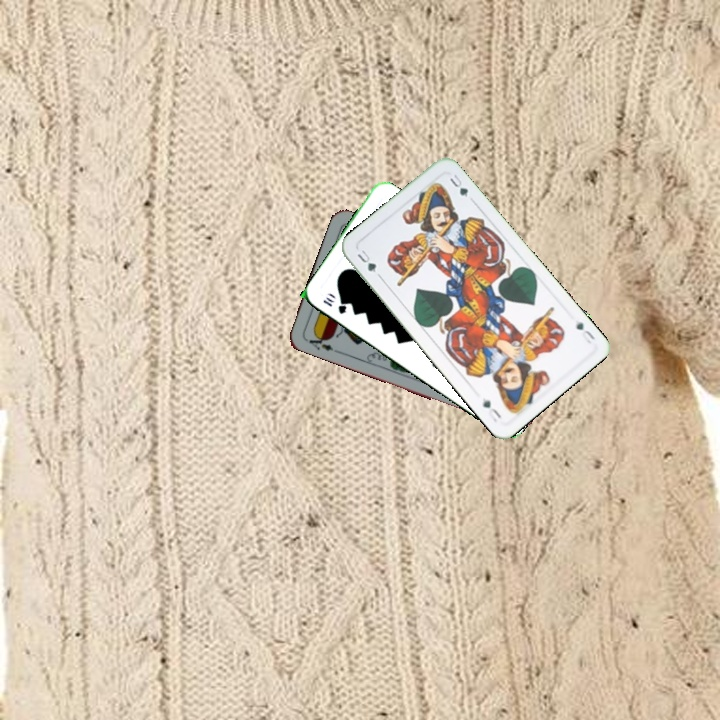EA: (305, 330, 341, 355)
G10: (319, 289, 349, 317)
GU: (353, 246, 379, 275), (572, 317, 597, 346)
